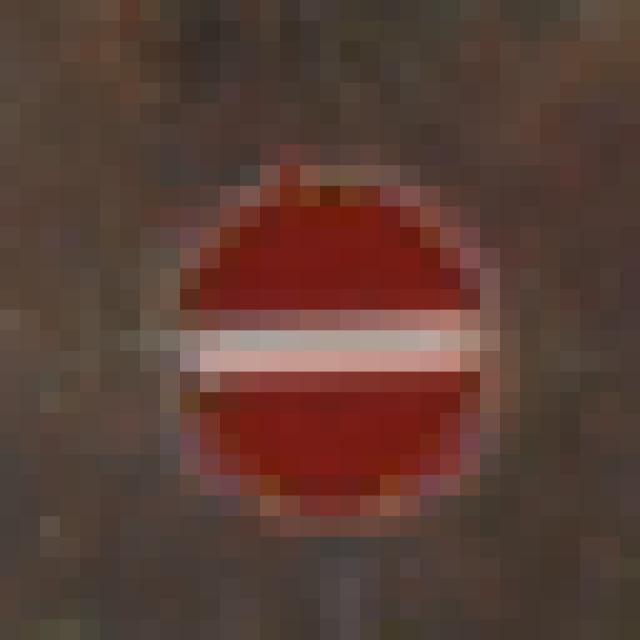No Entry: (121, 104, 521, 538)
